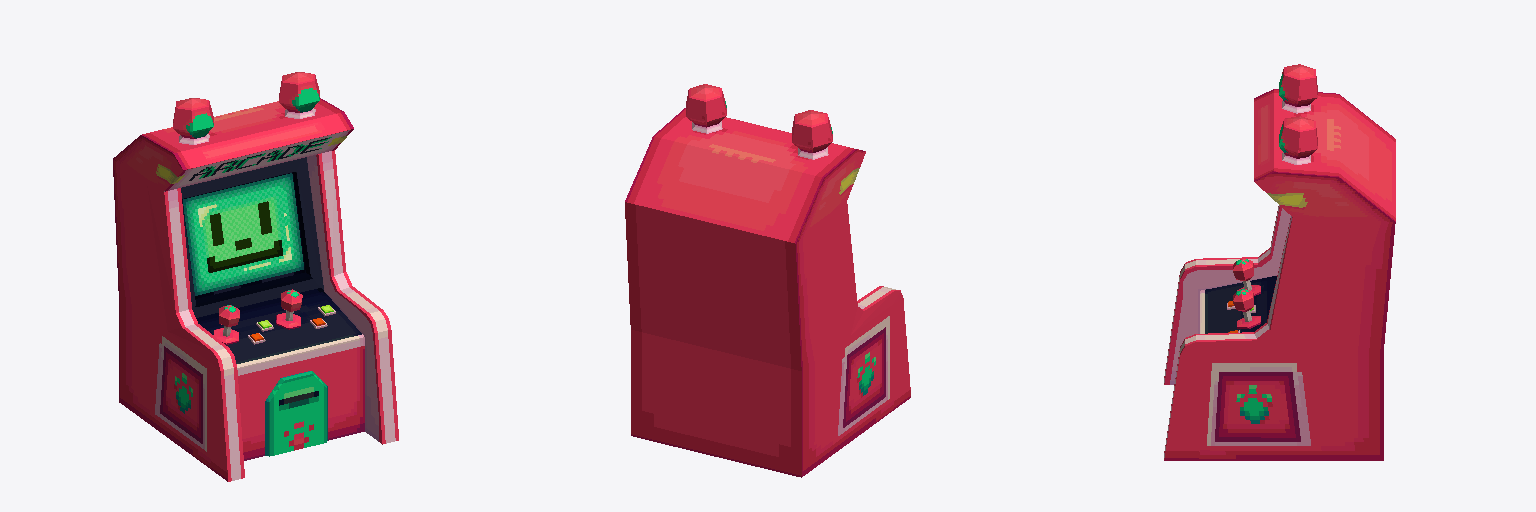
The picture shows the model from 3 angles: view 1: azimuth 30°, elevation 25°; view 2: azimuth 150°, elevation 25°; view 3: azimuth 270°, elevation 25°; orthographic projection.
Parts seen in each view (by area): view 1: arcade_machine; view 2: arcade_machine; view 3: arcade_machine.
Part boxes in pixels (left/top/right/bottom): arcade_machine: left=113, top=72, right=398, bottom=481; arcade_machine: left=625, top=84, right=910, bottom=477; arcade_machine: left=1164, top=64, right=1395, bottom=460.
Bounding box in the file's own units: 0.7499 × 1.37 × 0.8787.
Materials: 1 (1 with a texture image).